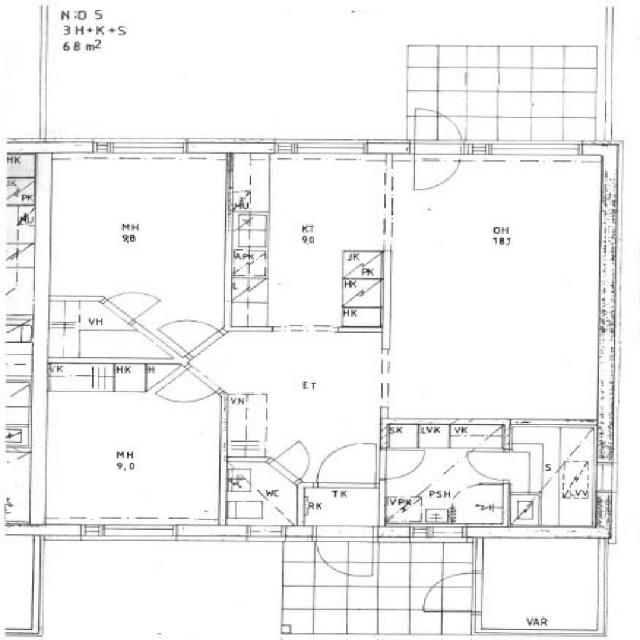door: (155, 304, 225, 358), (152, 363, 221, 416), (314, 526, 373, 586), (410, 138, 463, 194), (410, 97, 463, 153), (318, 438, 375, 487), (104, 278, 164, 323), (418, 572, 483, 613), (268, 439, 326, 484), (379, 450, 426, 480), (465, 450, 510, 480)
